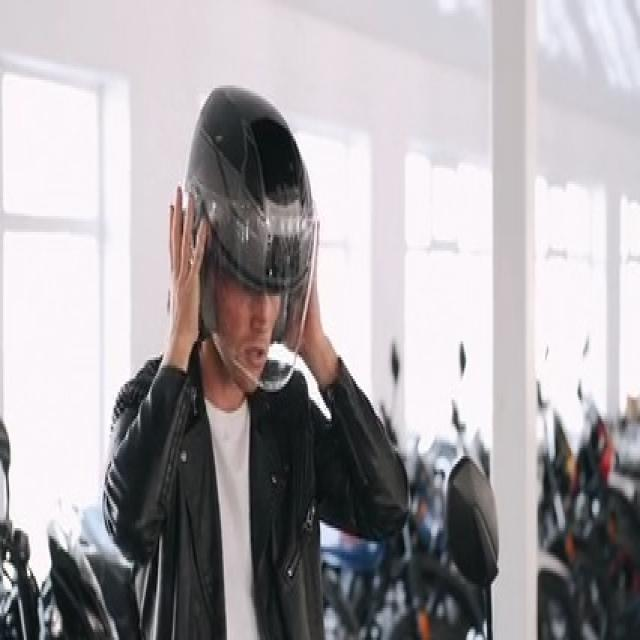Helmet_Wearer: (171, 76, 317, 429)
Jacket_Wearer: (105, 293, 400, 640)
Person: (104, 73, 409, 640)
